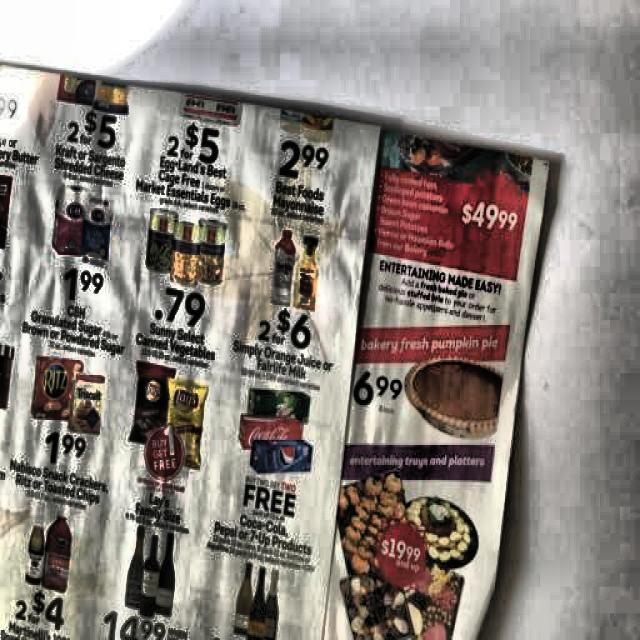paper: (0, 59, 558, 640)
